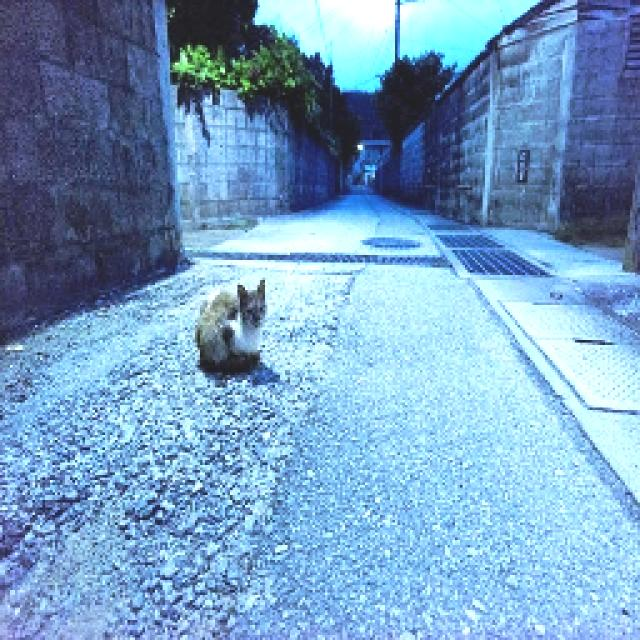cat: (178, 261, 288, 384)
